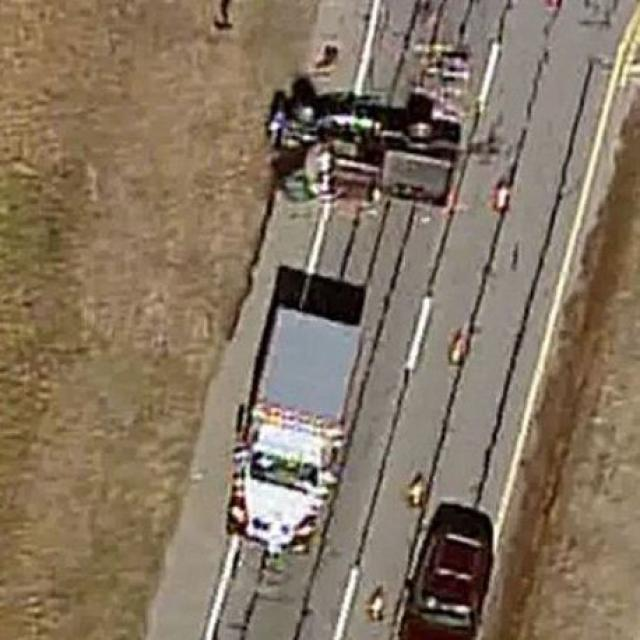traffic_incident: (249, 56, 468, 220)
